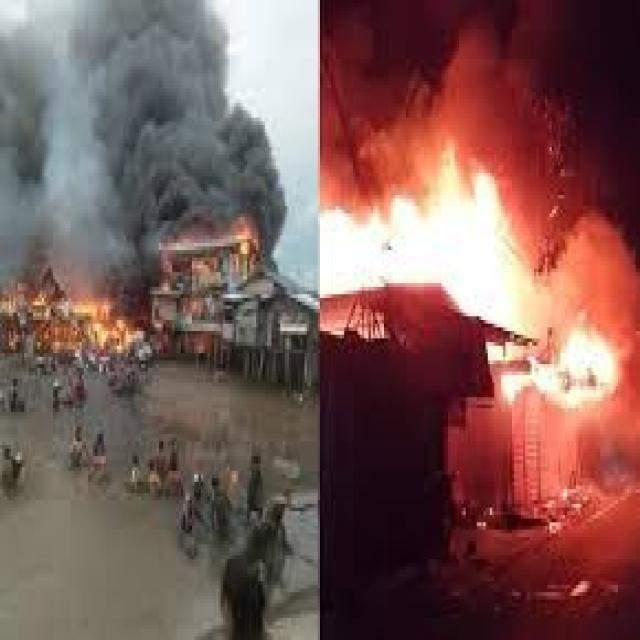Fire: (327, 190, 528, 316), (156, 228, 258, 345), (5, 277, 140, 363), (542, 308, 624, 424)
Smoke: (85, 6, 282, 218), (454, 12, 589, 164)
